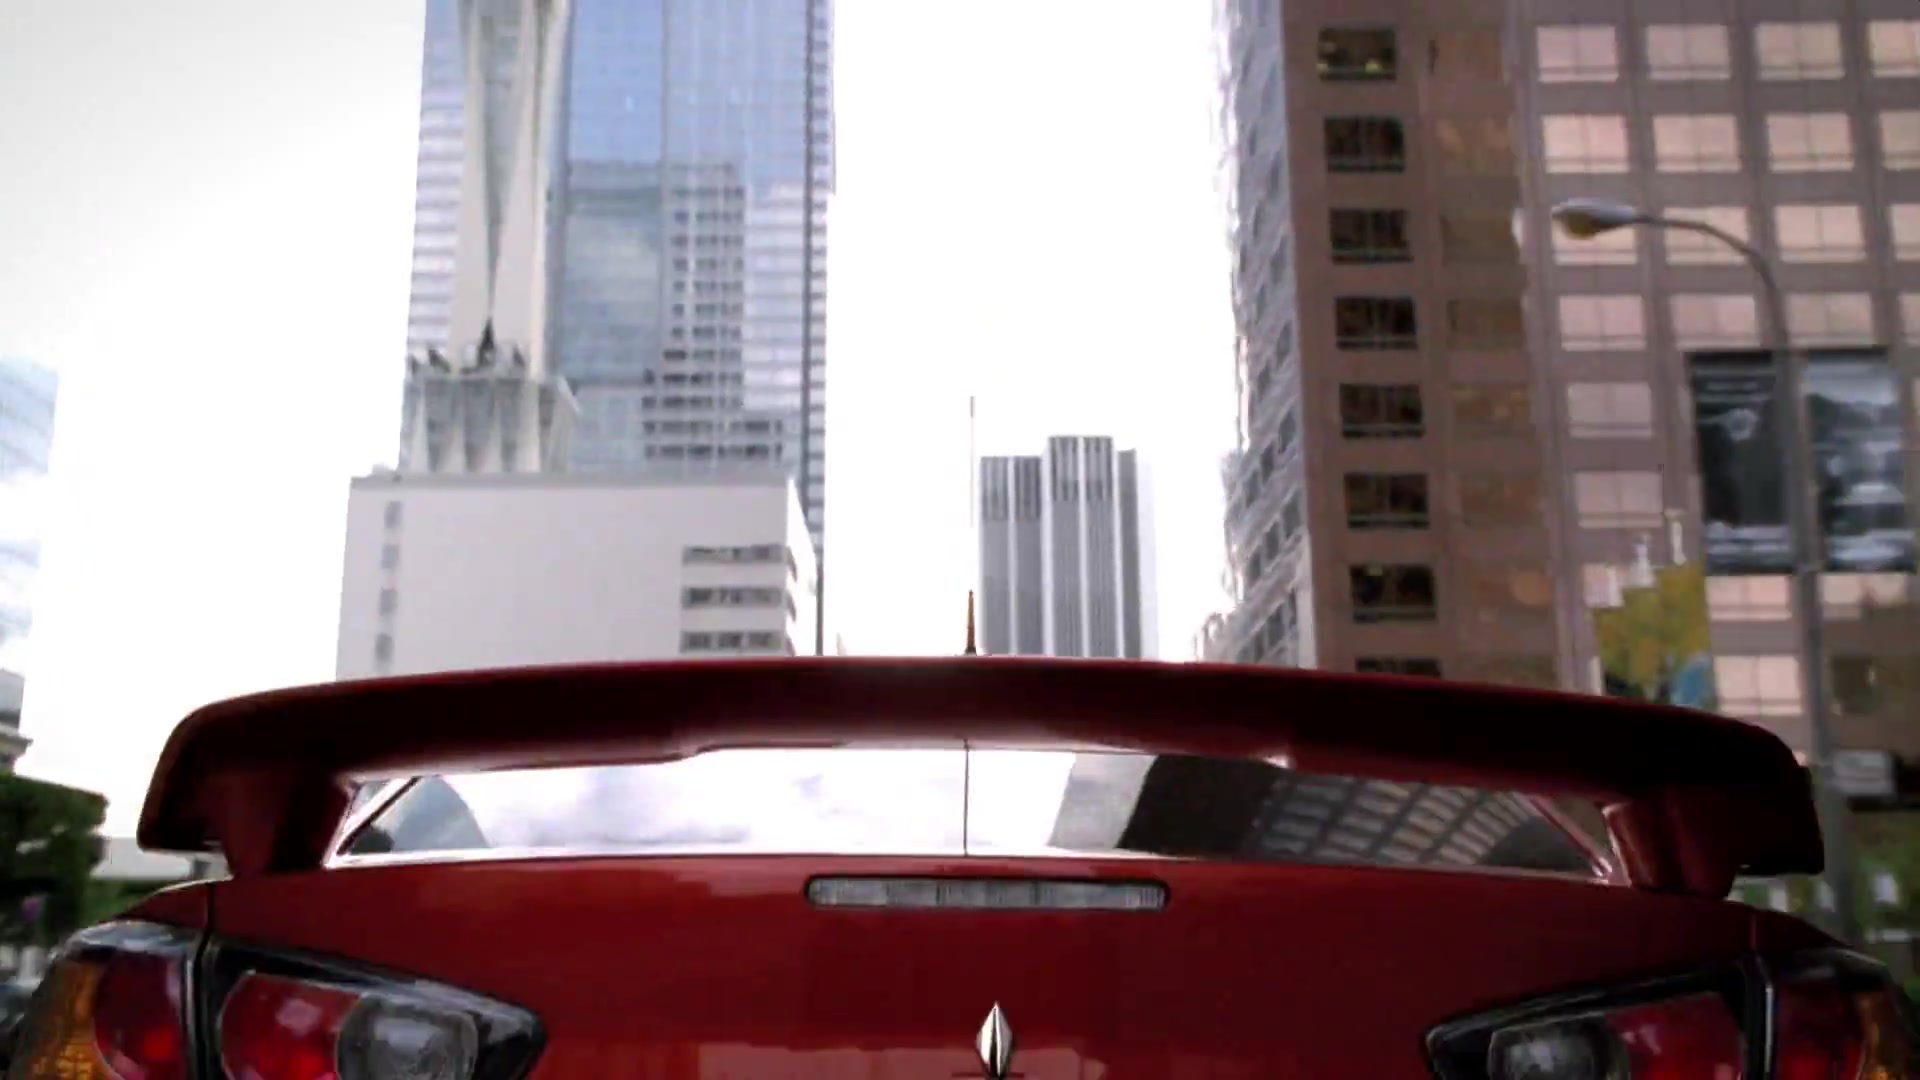car: (3, 642, 1920, 1080)
